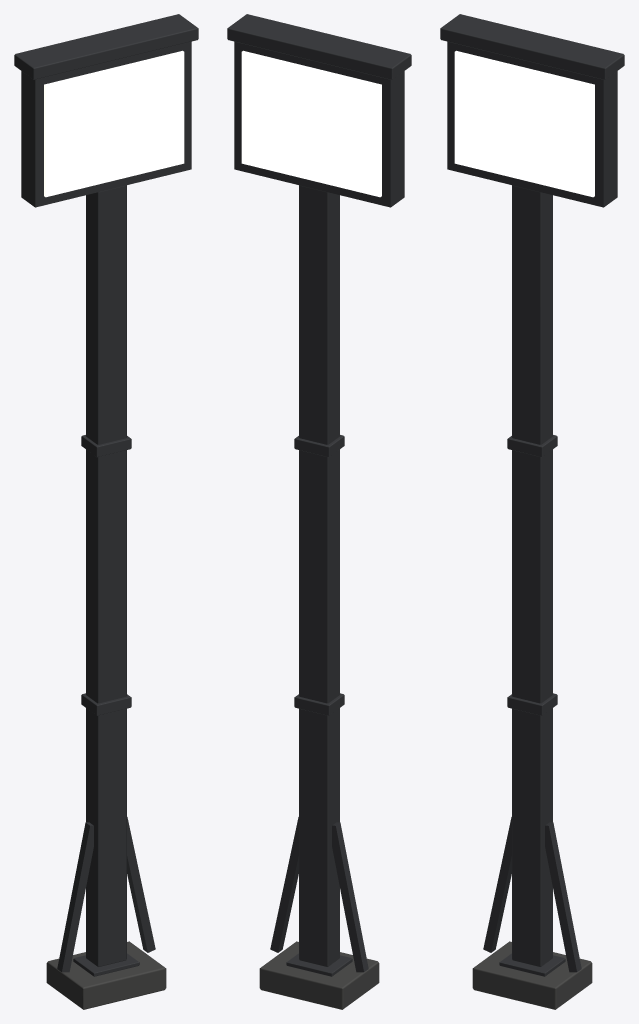
Rendered from landmark_totem.glb.
The picture shows the model from 3 angles, left to right: view 1: azimuth 30°, elevation 25°; view 2: azimuth 150°, elevation 25°; view 3: azimuth 330°, elevation 25°; orthographic projection.
Parts seen in each view (by area): view 1: TOT_Mat, TOT_Panneau_Lit, TOT_Casquette, TOT_Socle, TOT_Cadre_Cote_-1, TOT_Jambe_-1, TOT_Cadre_Bas, TOT_Jambe_1, TOT_Cadre_Haut, TOT_Cadre_Cote_1, TOT_Platine, TOT_Collier_1 (+1 smaller); view 2: TOT_Mat, TOT_Panneau_Lit, TOT_Casquette, TOT_Socle, TOT_Cadre_Cote_-1, TOT_Jambe_-1, TOT_Cadre_Bas, TOT_Jambe_1, TOT_Cadre_Haut, TOT_Cadre_Cote_1, TOT_Platine, TOT_Collier_1 (+1 smaller); view 3: TOT_Mat, TOT_Panneau_Lit, TOT_Casquette, TOT_Socle, TOT_Cadre_Cote_1, TOT_Jambe_1, TOT_Cadre_Bas, TOT_Jambe_-1, TOT_Cadre_Haut, TOT_Cadre_Cote_-1, TOT_Platine, TOT_Collier_1 (+1 smaller).
Part boxes in pixels (bbox=[...]): TOT_Mat: bbox=[86, 185, 126, 967]; TOT_Panneau_Lit: bbox=[44, 50, 184, 197]; TOT_Casquette: bbox=[14, 14, 198, 79]; TOT_Socle: bbox=[46, 941, 166, 1009]; TOT_Cadre_Cote_-1: bbox=[21, 77, 43, 198]; TOT_Jambe_-1: bbox=[57, 822, 93, 972]; TOT_Cadre_Bas: bbox=[21, 160, 191, 207]; TOT_Jambe_1: bbox=[127, 817, 155, 952]; TOT_Cadre_Haut: bbox=[21, 41, 191, 86]; TOT_Cadre_Cote_1: bbox=[183, 48, 191, 161]; TOT_Platine: bbox=[73, 953, 139, 976]; TOT_Collier_1: bbox=[81, 435, 131, 457]; TOT_Mat: bbox=[299, 185, 339, 967]; TOT_Panneau_Lit: bbox=[241, 50, 381, 197]; TOT_Casquette: bbox=[227, 14, 411, 79]; TOT_Socle: bbox=[259, 941, 379, 1009]; TOT_Cadre_Cote_-1: bbox=[382, 77, 404, 198]; TOT_Jambe_-1: bbox=[332, 822, 368, 972]; TOT_Cadre_Bas: bbox=[234, 160, 404, 207]; TOT_Jambe_1: bbox=[270, 817, 298, 952]; TOT_Cadre_Haut: bbox=[234, 41, 404, 86]; TOT_Cadre_Cote_1: bbox=[234, 48, 242, 161]; TOT_Platine: bbox=[286, 953, 352, 976]; TOT_Collier_1: bbox=[294, 435, 344, 457]; TOT_Mat: bbox=[512, 185, 552, 967]; TOT_Panneau_Lit: bbox=[454, 50, 594, 197]; TOT_Casquette: bbox=[440, 14, 624, 79]; TOT_Socle: bbox=[472, 941, 592, 1009]; TOT_Cadre_Cote_1: bbox=[595, 77, 617, 198]; TOT_Jambe_1: bbox=[545, 822, 581, 972]; TOT_Cadre_Bas: bbox=[447, 160, 617, 207]; TOT_Jambe_-1: bbox=[483, 817, 511, 952]; TOT_Cadre_Haut: bbox=[447, 41, 617, 86]; TOT_Cadre_Cote_-1: bbox=[447, 48, 455, 161]; TOT_Platine: bbox=[499, 953, 565, 976]; TOT_Collier_1: bbox=[507, 435, 557, 457].
Bounding box in the file's own units: 4.14 × 22.55 × 1.6.
